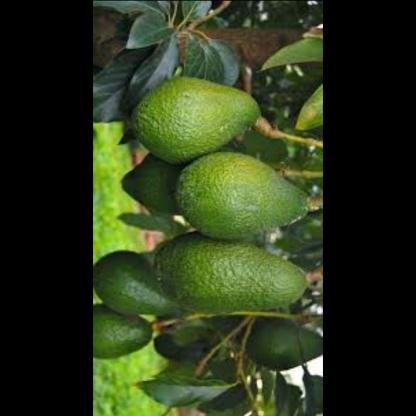avocado: (121, 72, 269, 166), (170, 153, 322, 242), (158, 249, 315, 322), (94, 253, 182, 319), (232, 323, 324, 380), (94, 303, 158, 365)
